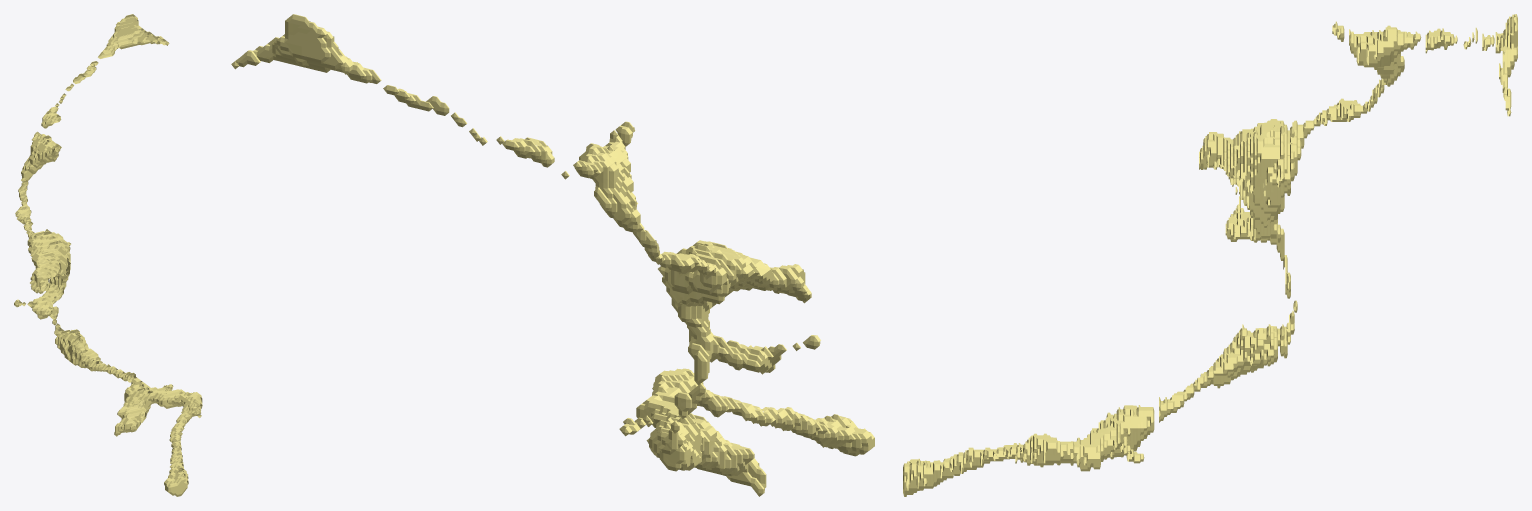
Rendered from SVV_ADAL.gltf.
3 views of the same model, side by side, from view 1: azimuth 30°, elevation 25°; view 2: azimuth 150°, elevation 25°; view 3: azimuth 270°, elevation 25° (orthographic). The views are drawn at different scales.
Visible parts, largest first — view 1: ADAL; view 2: ADAL; view 3: ADAL.
Boxes of the visible parts, x1=… form: ADAL: x1=14, y1=14, x2=202, y2=496; ADAL: x1=231, y1=14, x2=874, y2=496; ADAL: x1=903, y1=14, x2=1517, y2=496.
Bounding box in the file's own units: 55336 × 74277 × 70830.
